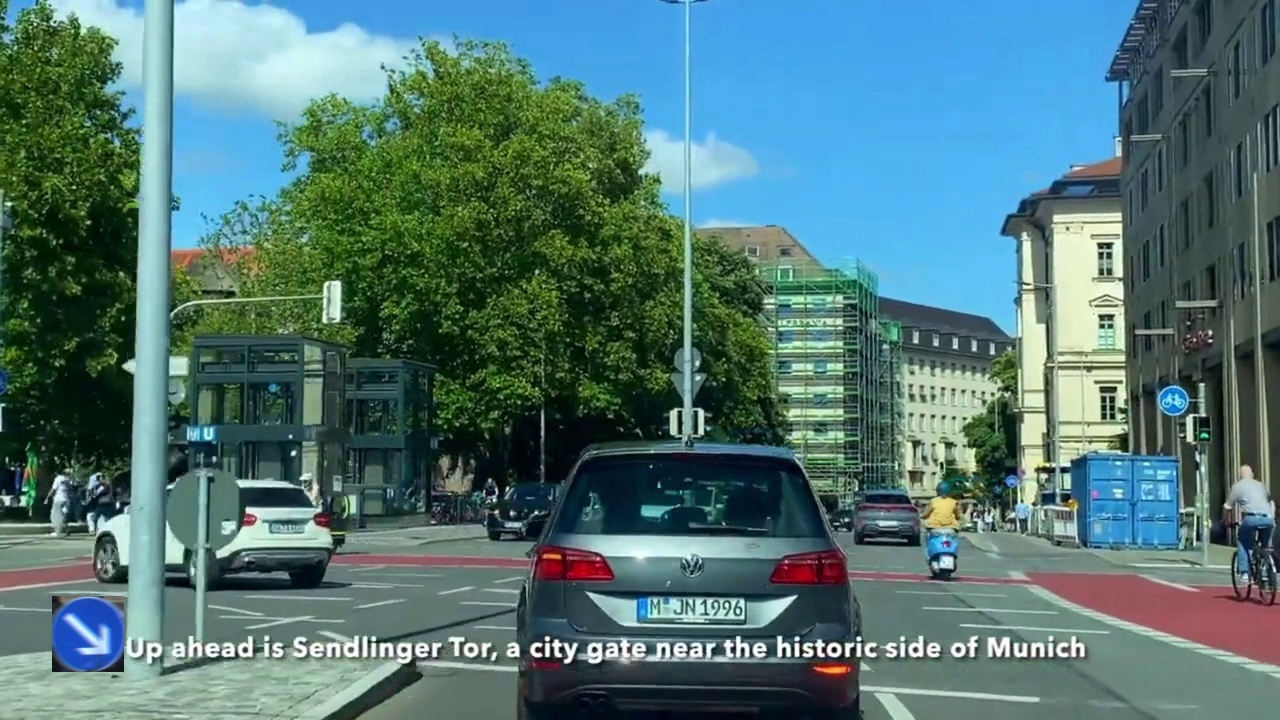Keep right: (52, 596, 124, 672)
